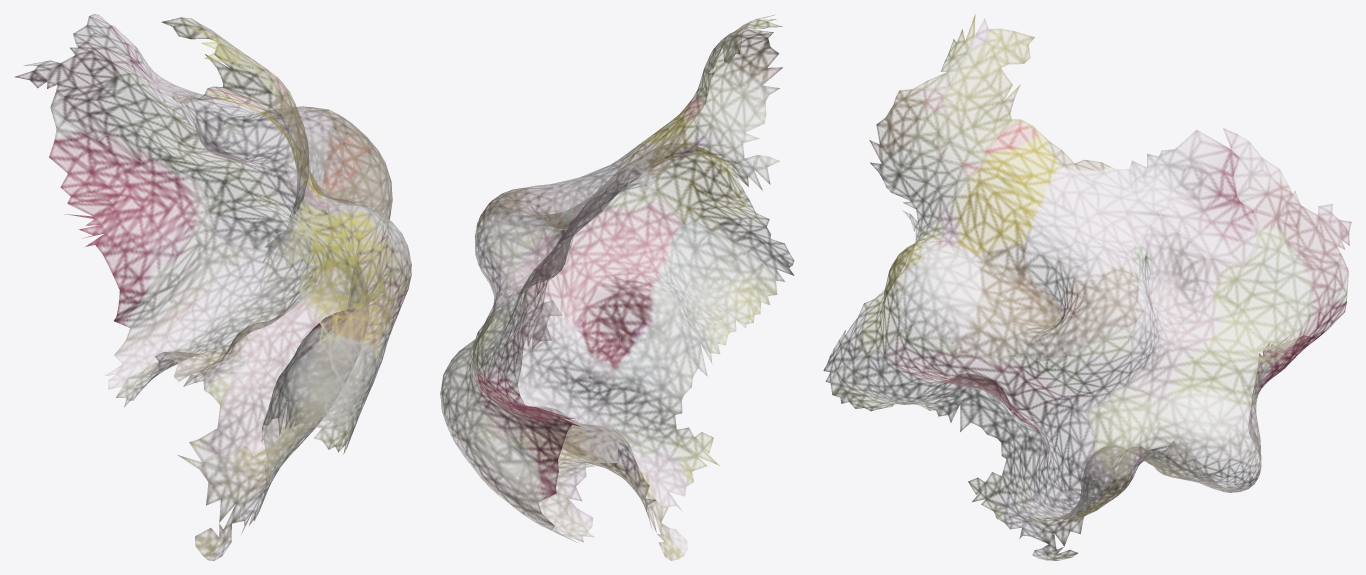
Rendered from Gitter3.glb.
The picture shows the model from 3 angles, left to right: view 1: azimuth 30°, elevation 25°; view 2: azimuth 150°, elevation 25°; view 3: azimuth 270°, elevation 25°; orthographic projection. The views are drawn at different scales.
Size of the model in its own units: 0.8777 by 1.87 by 1.72.
Materials: 1 (1 with a texture image).
